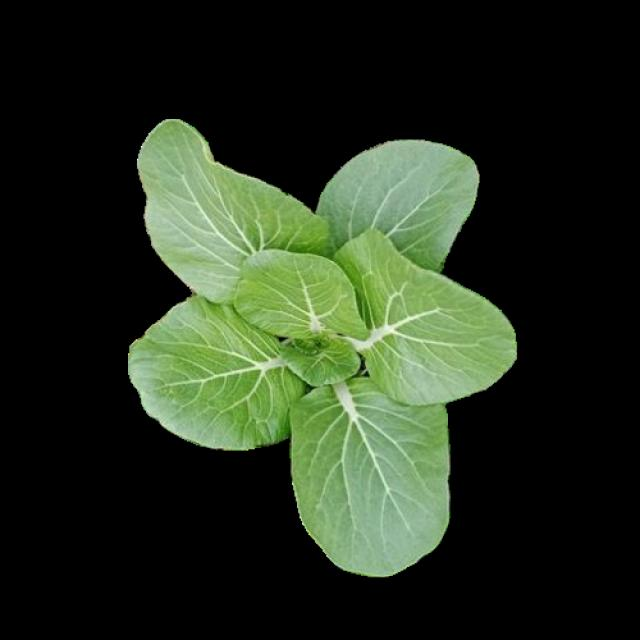healthy: (128, 118, 518, 572)
mature: (131, 120, 521, 575)
